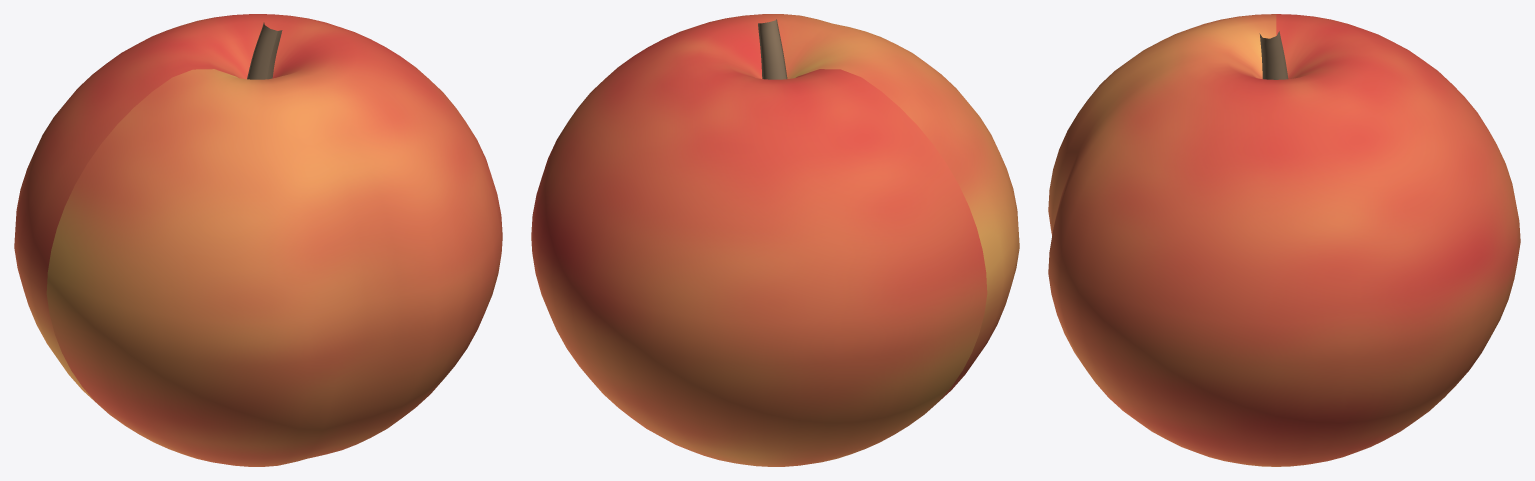
Rendered from peach.glb.
The picture shows the model from 3 angles, left to right: view 1: azimuth 30°, elevation 25°; view 2: azimuth 150°, elevation 25°; view 3: azimuth 270°, elevation 25°; orthographic projection.
Visible parts, largest first — view 1: Fruit_10_Peach_Body, Fruit_10_Peach_Stem; view 2: Fruit_10_Peach_Body, Fruit_10_Peach_Stem; view 3: Fruit_10_Peach_Body, Fruit_10_Peach_Stem.
Boxes of the visible parts, box(x1,y1,x2,y2) form: Fruit_10_Peach_Body: box(14, 14, 502, 466); Fruit_10_Peach_Stem: box(247, 22, 282, 79); Fruit_10_Peach_Body: box(531, 14, 1019, 466); Fruit_10_Peach_Stem: box(758, 19, 787, 79); Fruit_10_Peach_Body: box(1048, 14, 1520, 466); Fruit_10_Peach_Stem: box(1259, 31, 1288, 79).
Bounding box in the file's own units: 0.074 × 0.0705 × 0.0715.
2 materials, 1 textured.
